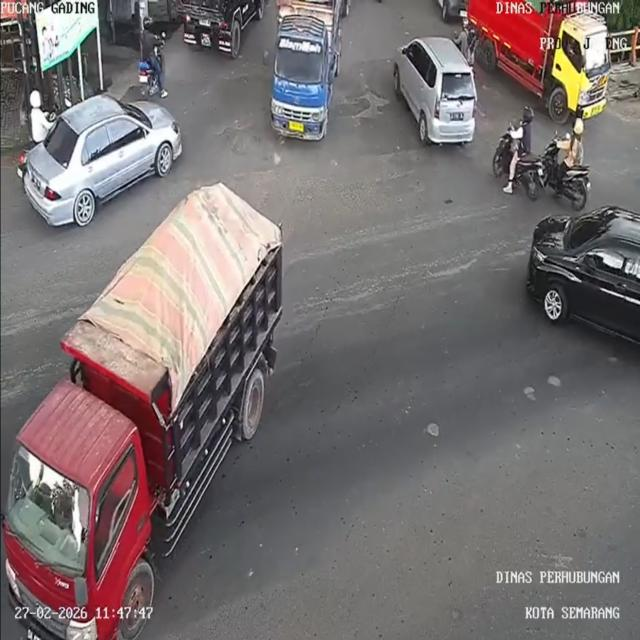motorcycle: (545, 139, 592, 208), (497, 136, 546, 202), (139, 60, 165, 105)
person: (506, 106, 537, 159), (137, 18, 164, 72), (28, 90, 54, 143), (561, 114, 584, 166), (456, 15, 470, 49), (466, 29, 477, 66)
rider_region: (492, 104, 546, 200), (541, 114, 592, 210), (137, 15, 168, 101)
